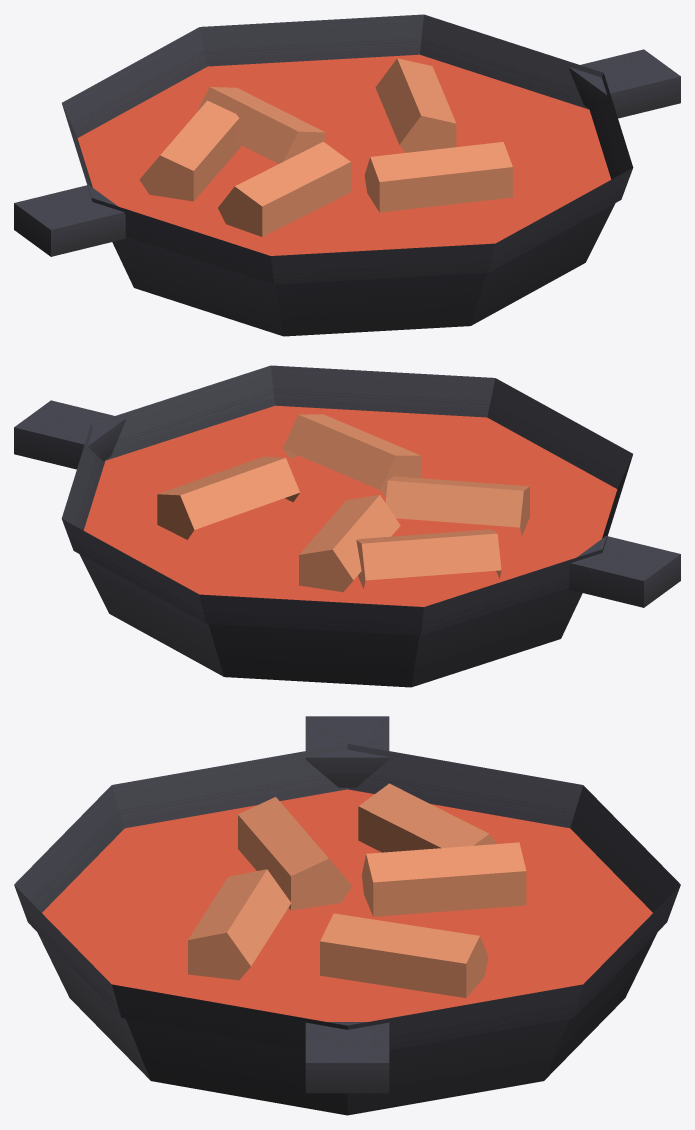
Rendered from food-tteokbokki.glb.
The picture shows the model from 3 angles, top to bottom: view 1: azimuth 30°, elevation 25°; view 2: azimuth 150°, elevation 25°; view 3: azimuth 270°, elevation 25°; orthographic projection. The views are drawn at different scales.
Parts seen in each view (by area): view 1: foodTteokbokki; view 2: foodTteokbokki; view 3: foodTteokbokki.
Boxes of the visible parts, x1,y1,x2,y2 form: foodTteokbokki: [14, 14, 680, 336]; foodTteokbokki: [14, 365, 680, 687]; foodTteokbokki: [14, 716, 680, 1115].
Bounding box in the file's own units: 0.295 × 0.0484 × 0.24.
Materials: 1 (1 with a texture image).
